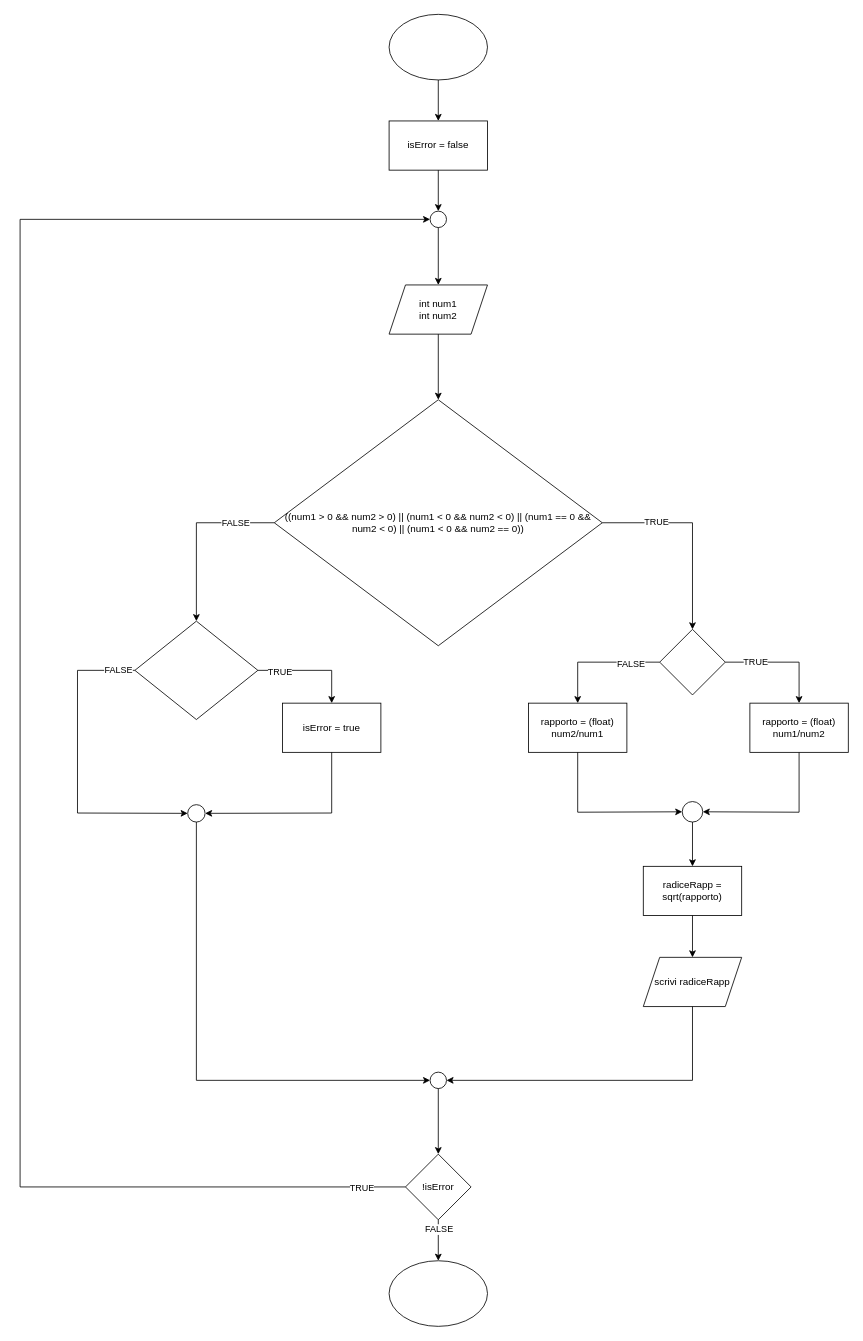
Some shapes in this 863 by 1341 pixel diagram are drawn without their labels. Here are the shapes that lost their labels. From the top down, the centre of each, then its label:
point 437,47: INIZIO
point 196,670: num1 == 0 || num 2 == 0
point 692,662: num1 > num2
point 437,1293: FINE
